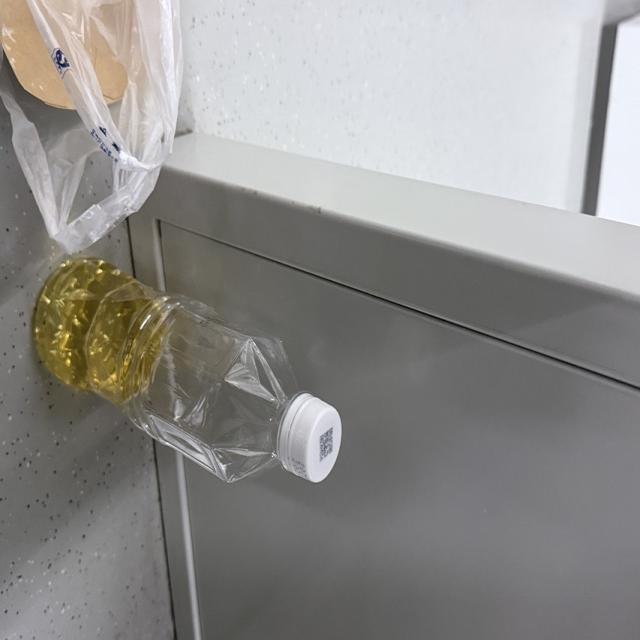low: (34, 257, 341, 482)
